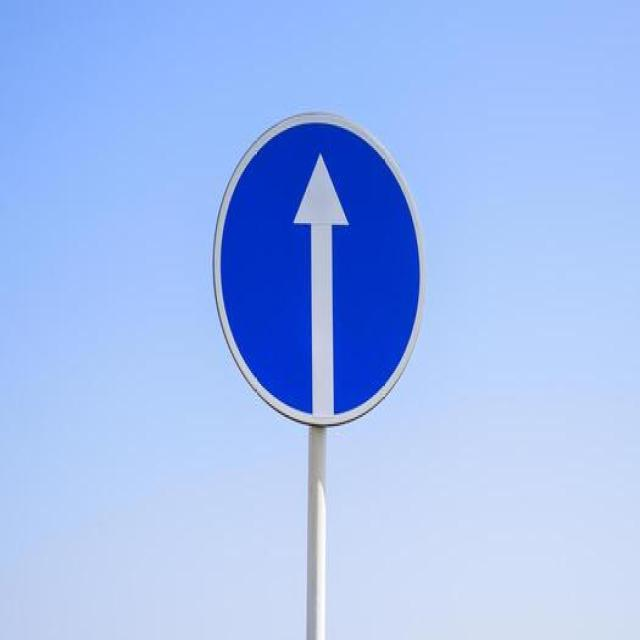STRAIGHT: (212, 113, 424, 424)
